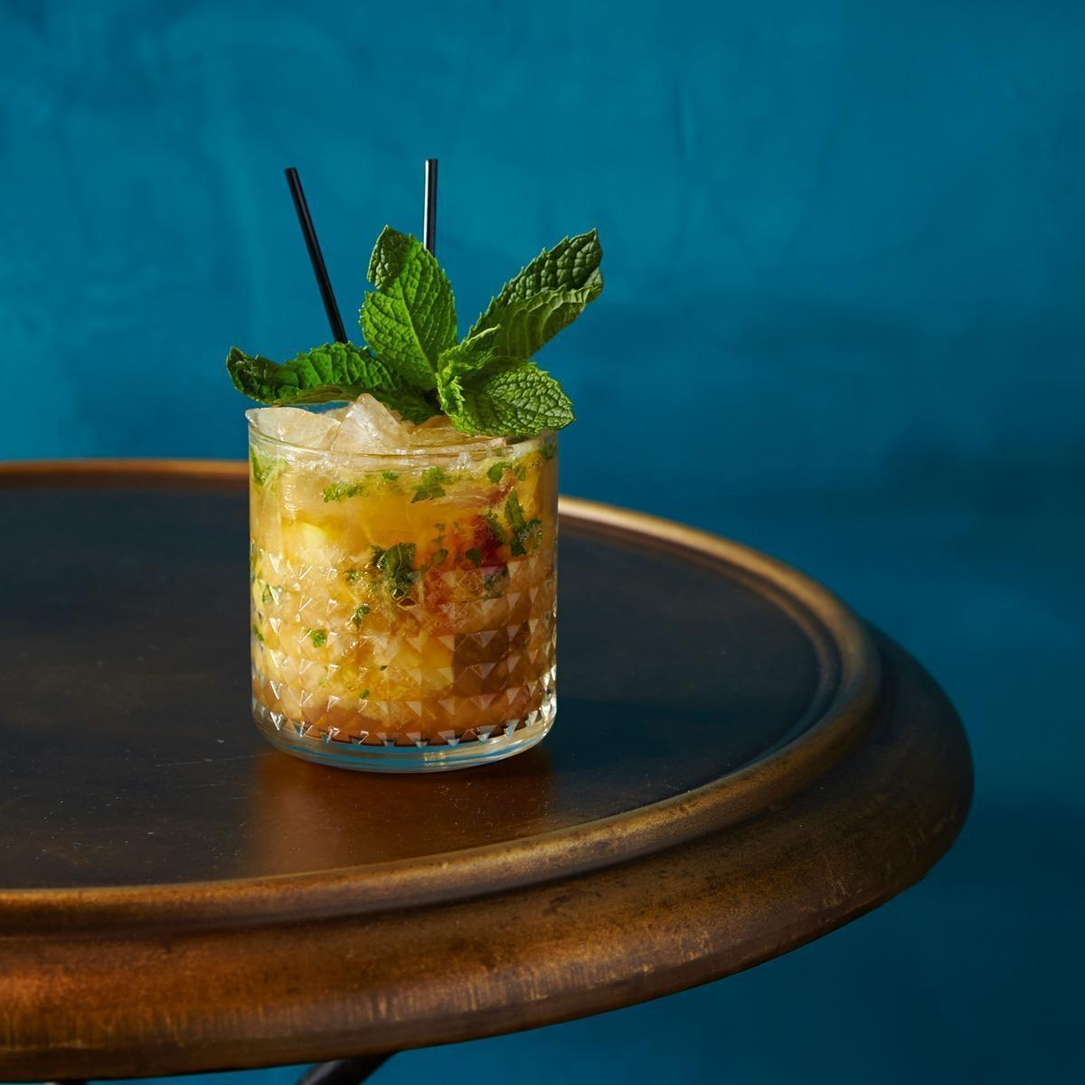glass-normal: (241, 392, 563, 775)
